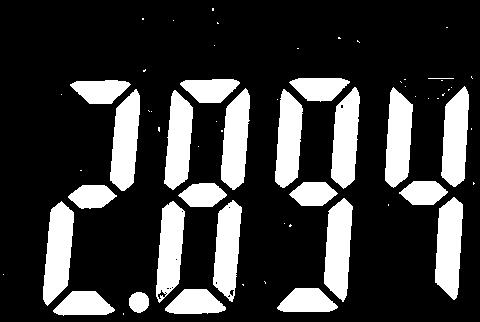2: (40, 77, 141, 317)
4: (385, 82, 473, 300)
8: (156, 75, 252, 315)
9: (273, 74, 362, 315)
dot: (127, 290, 152, 313)
